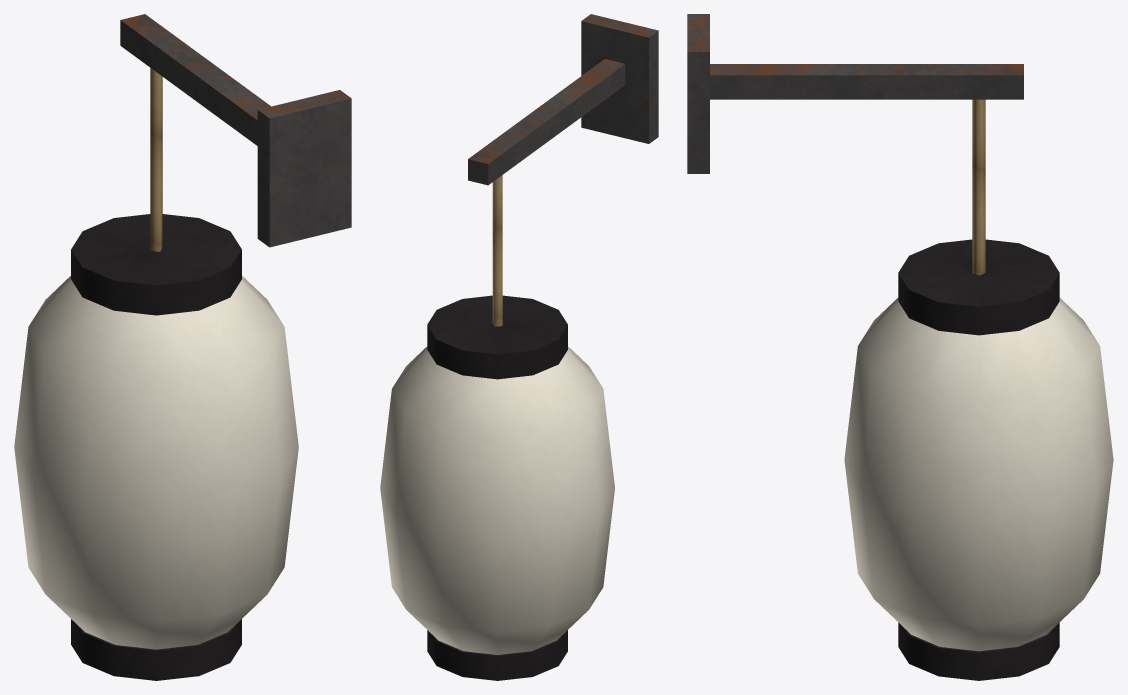
Rendered from HO_Prop_Chochin_Black.fbx.
3 renders of one model, left to right at view 1: azimuth 30°, elevation 25°; view 2: azimuth 150°, elevation 25°; view 3: azimuth 270°, elevation 25°, orthographic. The views are drawn at different scales.
Parts seen in each view (by area): view 1: HO_Prop_Chochin_Black_Glow, HO_Prop_Chochin_Black__Iron_Wrought, HO_Prop_Chochin_Black__Black_Lacquer, HO_Prop_Chochin_Black__Rope; view 2: HO_Prop_Chochin_Black_Glow, HO_Prop_Chochin_Black__Iron_Wrought, HO_Prop_Chochin_Black__Black_Lacquer, HO_Prop_Chochin_Black__Rope; view 3: HO_Prop_Chochin_Black_Glow, HO_Prop_Chochin_Black__Black_Lacquer, HO_Prop_Chochin_Black__Iron_Wrought, HO_Prop_Chochin_Black__Rope.
Part boxes in pixels (left/top/right/bottom): HO_Prop_Chochin_Black_Glow: left=14, top=276, right=298, bottom=649; HO_Prop_Chochin_Black__Iron_Wrought: left=120, top=14, right=351, bottom=247; HO_Prop_Chochin_Black__Black_Lacquer: left=71, top=214, right=241, bottom=680; HO_Prop_Chochin_Black__Rope: left=150, top=68, right=162, bottom=251; HO_Prop_Chochin_Black_Glow: left=380, top=346, right=614, bottom=654; HO_Prop_Chochin_Black__Iron_Wrought: left=468, top=14, right=658, bottom=185; HO_Prop_Chochin_Black__Black_Lacquer: left=427, top=295, right=567, bottom=680; HO_Prop_Chochin_Black__Rope: left=492, top=175, right=502, bottom=326; HO_Prop_Chochin_Black_Glow: left=844, top=298, right=1113, bottom=651; HO_Prop_Chochin_Black__Black_Lacquer: left=898, top=239, right=1059, bottom=680; HO_Prop_Chochin_Black__Iron_Wrought: left=687, top=14, right=1023, bottom=173; HO_Prop_Chochin_Black__Rope: left=972, top=99, right=985, bottom=275.
Bounding box in the file's own units: 1.2 × 3.02 × 1.9.
